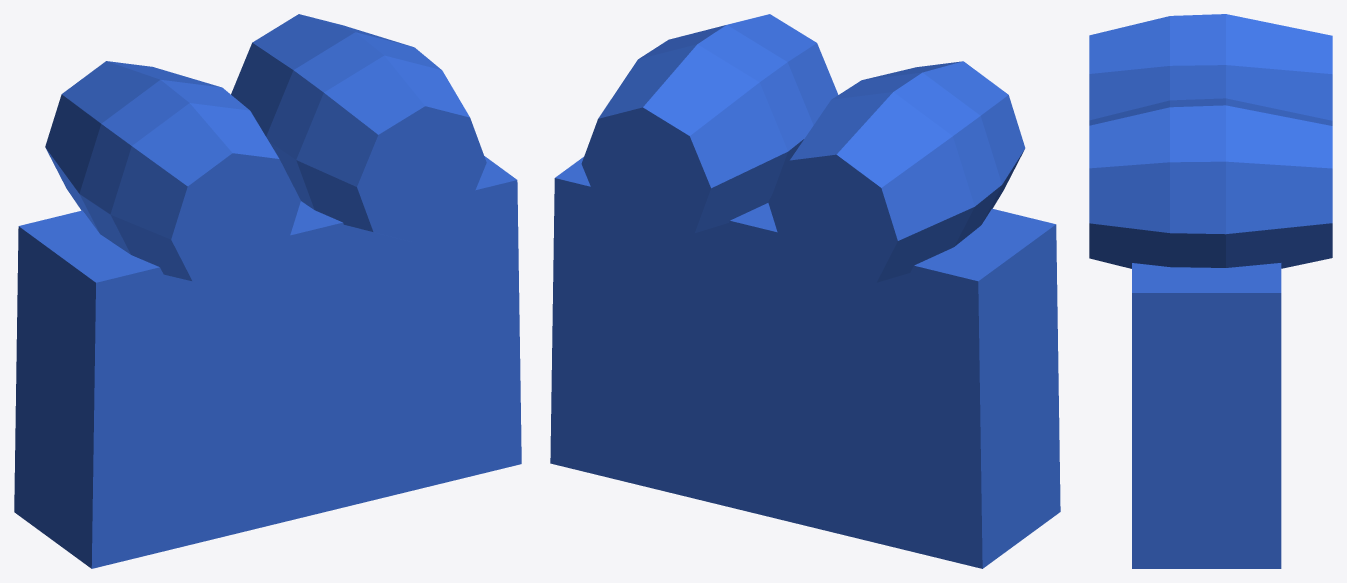
File: Collision_Barrel_Holder.fbx
3 renders of one model, left to right at view 1: azimuth 30°, elevation 25°; view 2: azimuth 150°, elevation 25°; view 3: azimuth 270°, elevation 25°, orthographic. The views are drawn at different scales.
Parts seen in each view (by area): view 1: UCX_Barrel_Holder_1, UCX_Barrel_Holder_3, UCX_Barrel_Holder_2; view 2: UCX_Barrel_Holder_1, UCX_Barrel_Holder_3, UCX_Barrel_Holder_2; view 3: UCX_Barrel_Holder_1, UCX_Barrel_Holder_2, UCX_Barrel_Holder_3.
Part boxes in pixels (left/top/right/bottom): UCX_Barrel_Holder_1: left=14, top=156, right=521, bottom=568; UCX_Barrel_Holder_3: left=45, top=61, right=300, bottom=287; UCX_Barrel_Holder_2: left=231, top=14, right=486, bottom=243; UCX_Barrel_Holder_1: left=550, top=157, right=1060, bottom=568; UCX_Barrel_Holder_3: left=768, top=61, right=1025, bottom=288; UCX_Barrel_Holder_2: left=581, top=14, right=838, bottom=244; UCX_Barrel_Holder_1: left=1132, top=263, right=1281, bottom=568; UCX_Barrel_Holder_2: left=1089, top=98, right=1332, bottom=268; UCX_Barrel_Holder_3: left=1089, top=14, right=1332, bottom=120.
Size of the model in its own units: 136 by 128 by 69.23.
